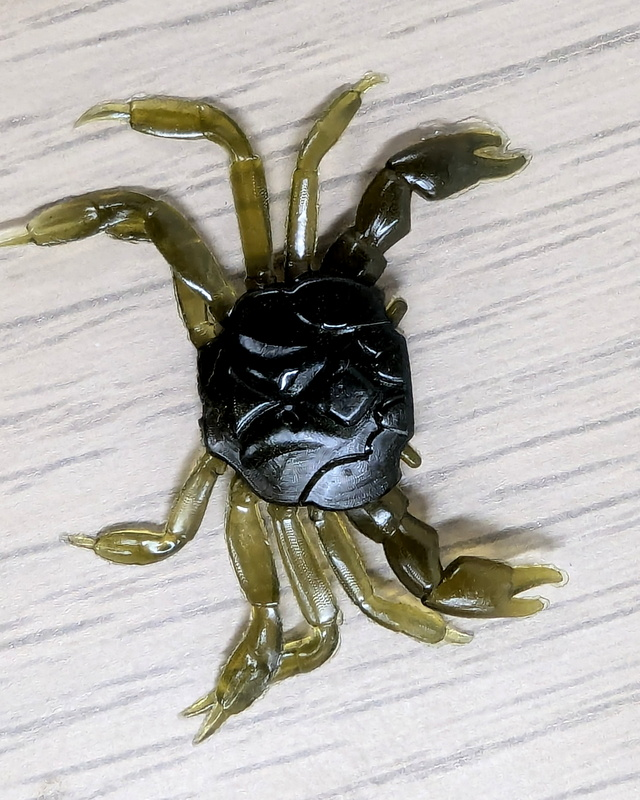crab2: (1, 70, 574, 746)
